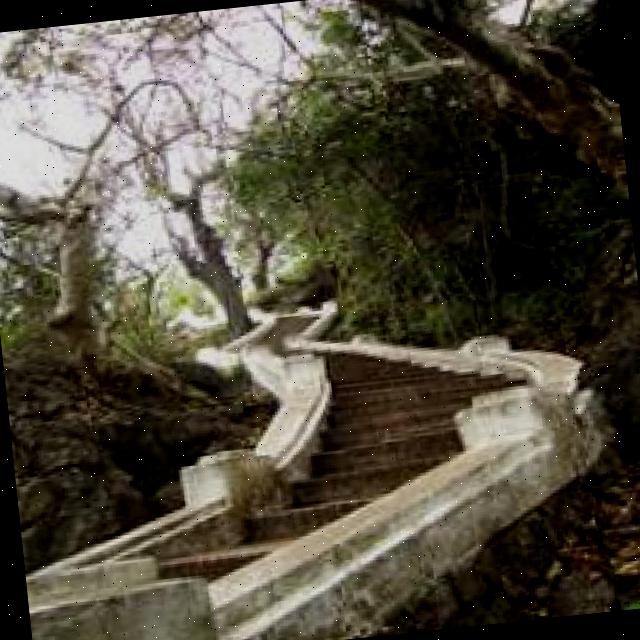stairs: (0, 267, 623, 640)
